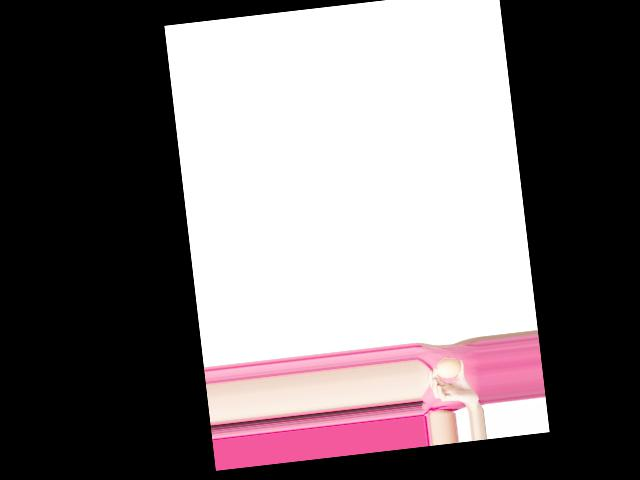egg: (434, 357, 462, 379)
